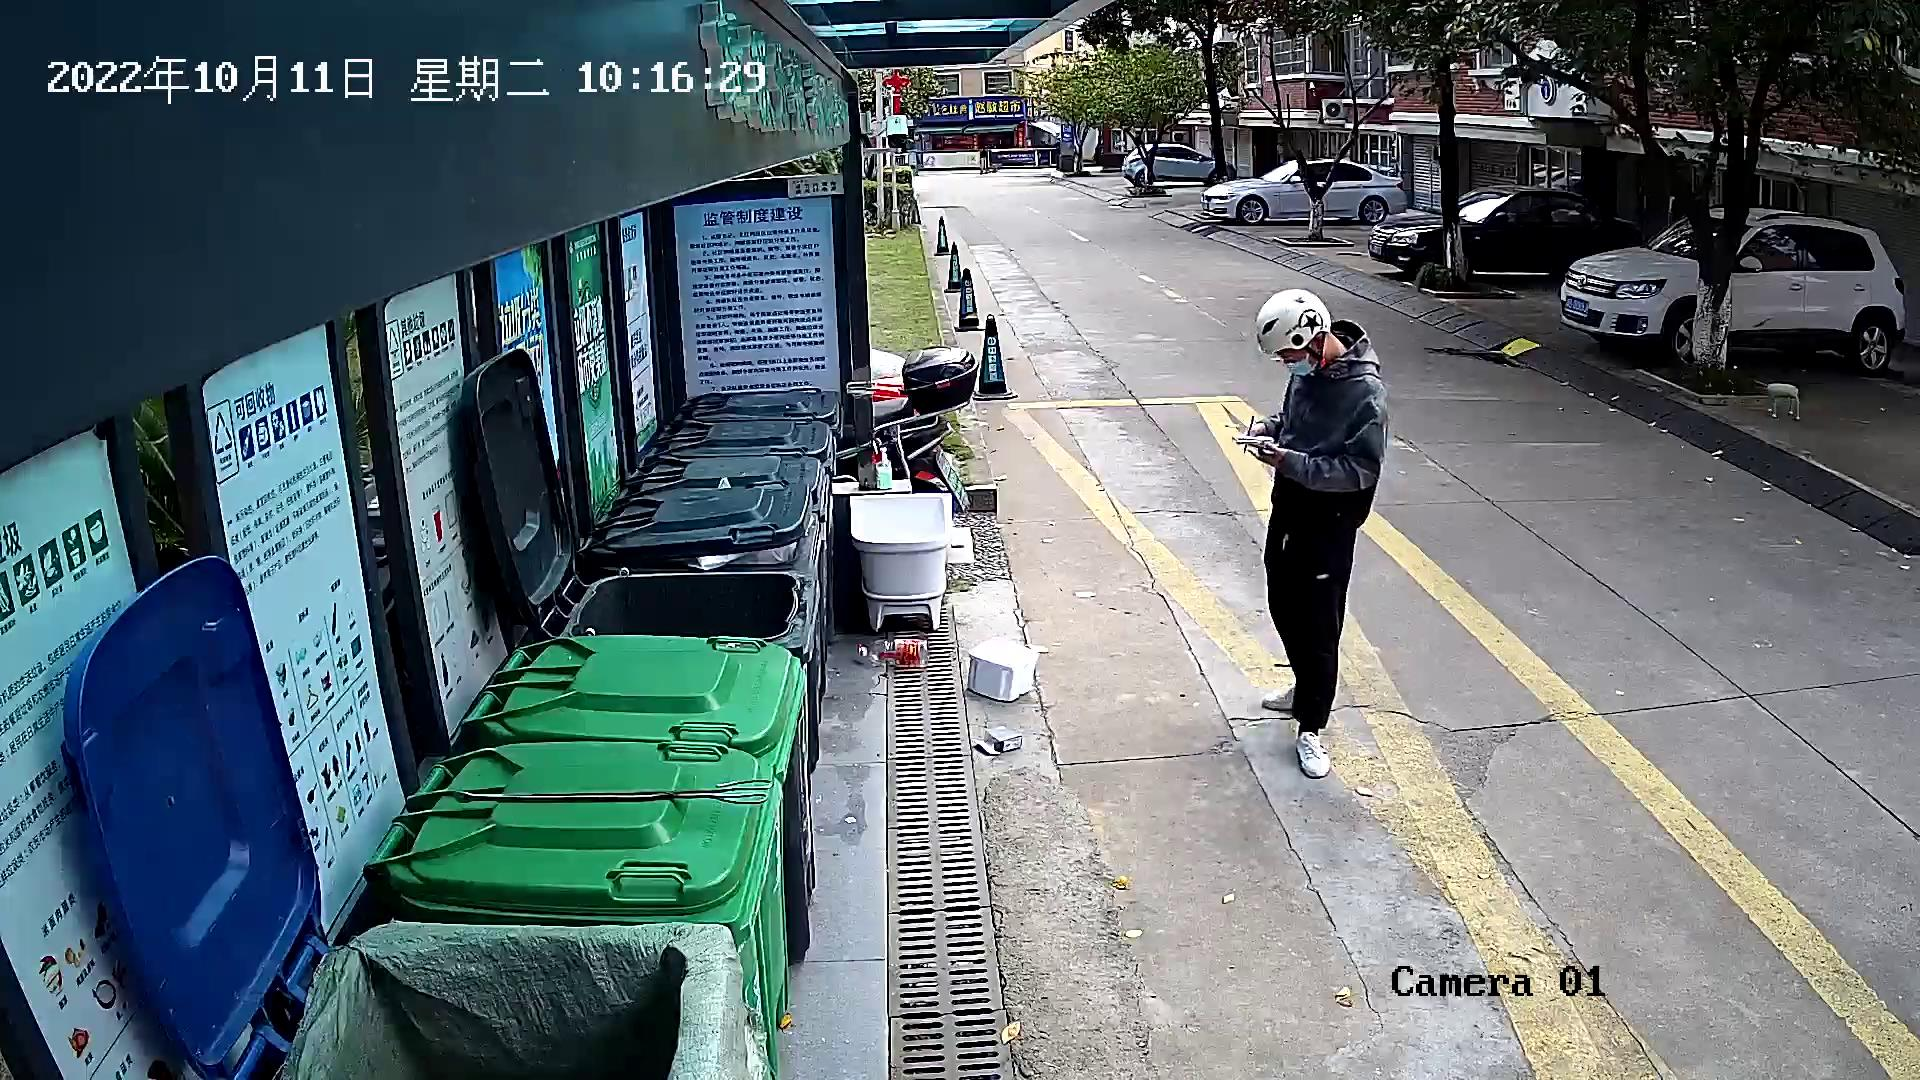paomozhipin: (961, 630, 1045, 710)
person: (1225, 279, 1400, 786)
suliaozhipin: (852, 628, 931, 676)
zhizhipin: (968, 720, 1028, 762)
